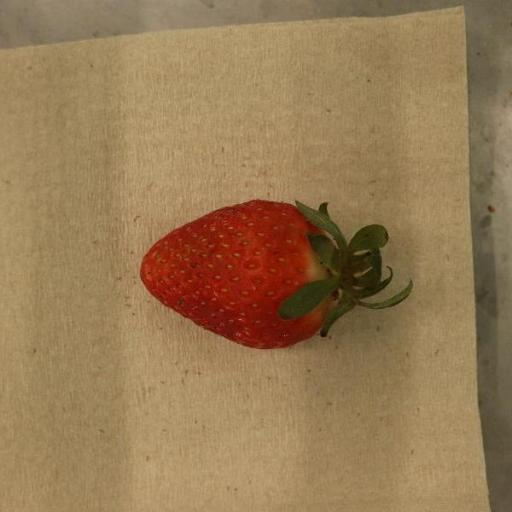Strawberry: (141, 200, 415, 350)
